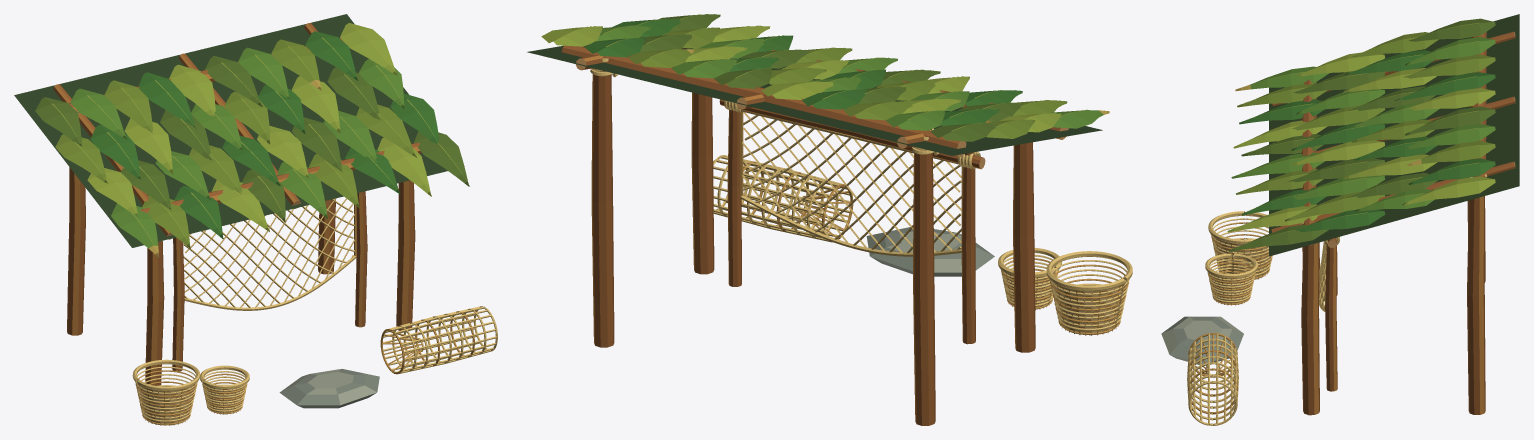
The model's file is centro_pesca_nivel_1.glb.
3 renders of one model, left to right at view 1: azimuth 30°, elevation 25°; view 2: azimuth 150°, elevation 25°; view 3: azimuth 270°, elevation 25°, orthographic. The views are drawn at different scales.
Parts seen in each view (by area): view 1: Oca_Forro.007, Oca_Fibras.007, Oca_FolhaLima.013, Oca_FolhaJade.028, Oca_FolhaMusgo.013, Oca_FolhaOliva.013, Oca_FolhaVerde.013, Oca_Madeira.007, Oca_MadeiraClara.007, Oca_FibraMel.007, Oca_Nervuras.013, Oca_Pedra.007 (+2 smaller); view 2: Oca_Madeira.007, Oca_Fibras.007, Oca_FolhaOliva.013, Oca_FolhaMusgo.013, Oca_FolhaJade.028, Oca_FolhaLima.013, Oca_FolhaVerde.013, Oca_Forro.007, Oca_FibraMel.007, Oca_MadeiraClara.007, Oca_Pedra.007, Oca_FibraClara.007 (+2 smaller); view 3: Oca_Forro.007, Oca_Madeira.007, Oca_FolhaLima.013, Oca_FolhaJade.028, Oca_FolhaOliva.013, Oca_FolhaVerde.013, Oca_FolhaMusgo.013, Oca_Fibras.007, Oca_MadeiraClara.007, Oca_FibraMel.007, Oca_Nervuras.013, Oca_Pedra.007 (+2 smaller).
Part boxes in pixels (box(x1,y1,x2,y2)): Oca_Forro.007: box(14, 14, 464, 247); Oca_Fibras.007: box(77, 111, 497, 425); Oca_FolhaLima.013: box(87, 23, 431, 231); Oca_FolhaJade.028: box(90, 31, 439, 238); Oca_FolhaMusgo.013: box(35, 56, 469, 222); Oca_FolhaOliva.013: box(55, 39, 416, 248); Oca_FolhaVerde.013: box(70, 47, 404, 248); Oca_Madeira.007: box(53, 23, 421, 385); Oca_MadeiraClara.007: box(54, 23, 419, 385); Oca_FibraMel.007: box(135, 204, 474, 425); Oca_Nervuras.013: box(52, 30, 463, 250); Oca_Pedra.007: box(279, 369, 379, 408); Oca_Madeira.007: box(561, 45, 1060, 425); Oca_Fibras.007: box(590, 58, 1132, 334); Oca_FolhaOliva.013: box(628, 27, 1067, 138); Oca_FolhaMusgo.013: box(640, 14, 1022, 141); Oca_FolhaJade.028: box(584, 19, 1022, 125); Oca_FolhaLima.013: box(541, 26, 1062, 132); Oca_FolhaVerde.013: box(597, 26, 1103, 130); Oca_Forro.007: box(527, 35, 1102, 155); Oca_FibraMel.007: box(739, 111, 1128, 335); Oca_MadeiraClara.007: box(583, 55, 1061, 423); Oca_Pedra.007: box(866, 227, 994, 276); Oca_FibraClara.007: box(1003, 270, 1127, 335); Oca_Forro.007: box(1269, 14, 1519, 256); Oca_Madeira.007: box(1271, 31, 1515, 415); Oca_FolhaLima.013: box(1227, 52, 1495, 232); Oca_FolhaJade.028: box(1239, 50, 1495, 232); Oca_FolhaOliva.013: box(1236, 32, 1495, 221); Oca_FolhaVerde.013: box(1231, 37, 1495, 211); Oca_FolhaMusgo.013: box(1228, 18, 1495, 251); Oca_Fibras.007: box(1187, 83, 1487, 425); Oca_MadeiraClara.007: box(1300, 37, 1484, 414); Oca_FibraMel.007: box(1187, 222, 1272, 414); Oca_Nervuras.013: box(1241, 23, 1479, 242); Oca_Pedra.007: box(1162, 316, 1243, 363).
Size of the model in its own units: 4.11 by 2.66 by 3.46.
